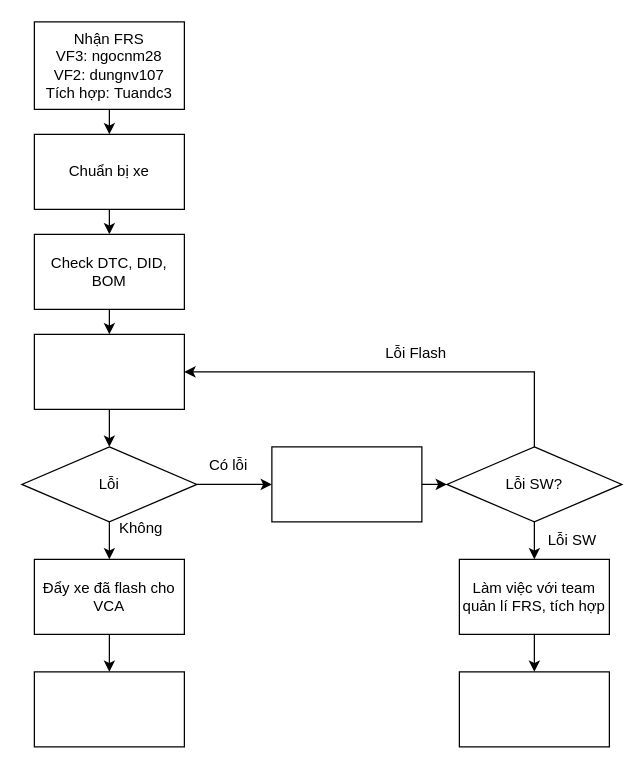
Some shapes in this 644 by 769 pixel diagram are drawn without their labels. Here are the shapes that lost their labels. From the top down, the box of each, then its label:
(33, 333, 184, 409): Flash SW cho ECU
(271, 446, 422, 522): Check DTC after flash
(33, 671, 184, 747): Tổng hợp và đánh giá theo VF_SX_CL18
(458, 671, 609, 747): Raise issue
